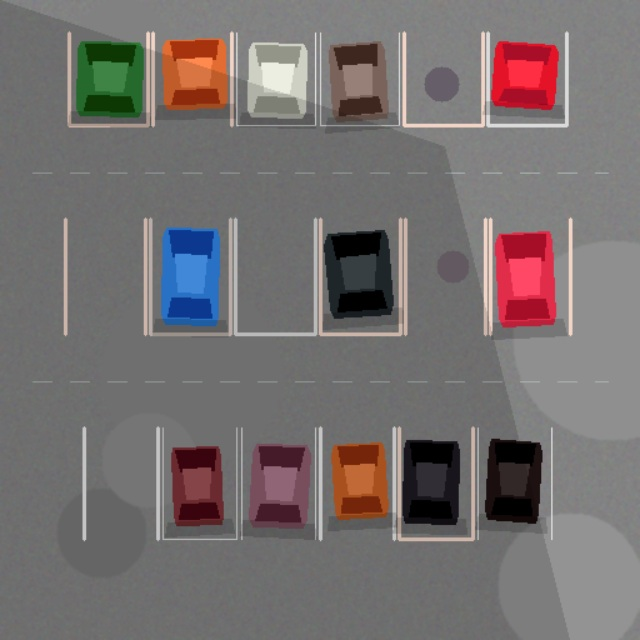space-empty: (65, 219, 145, 334), (235, 219, 315, 334), (405, 219, 485, 334), (84, 428, 158, 539), (404, 33, 483, 125)
space-occupied: (150, 219, 230, 334), (320, 219, 400, 334), (490, 219, 570, 334), (162, 428, 236, 539), (241, 428, 315, 539), (320, 428, 394, 539), (399, 428, 472, 539), (478, 428, 551, 539), (236, 33, 315, 125), (320, 33, 399, 125), (487, 33, 566, 125), (69, 33, 147, 125), (153, 33, 231, 125)
